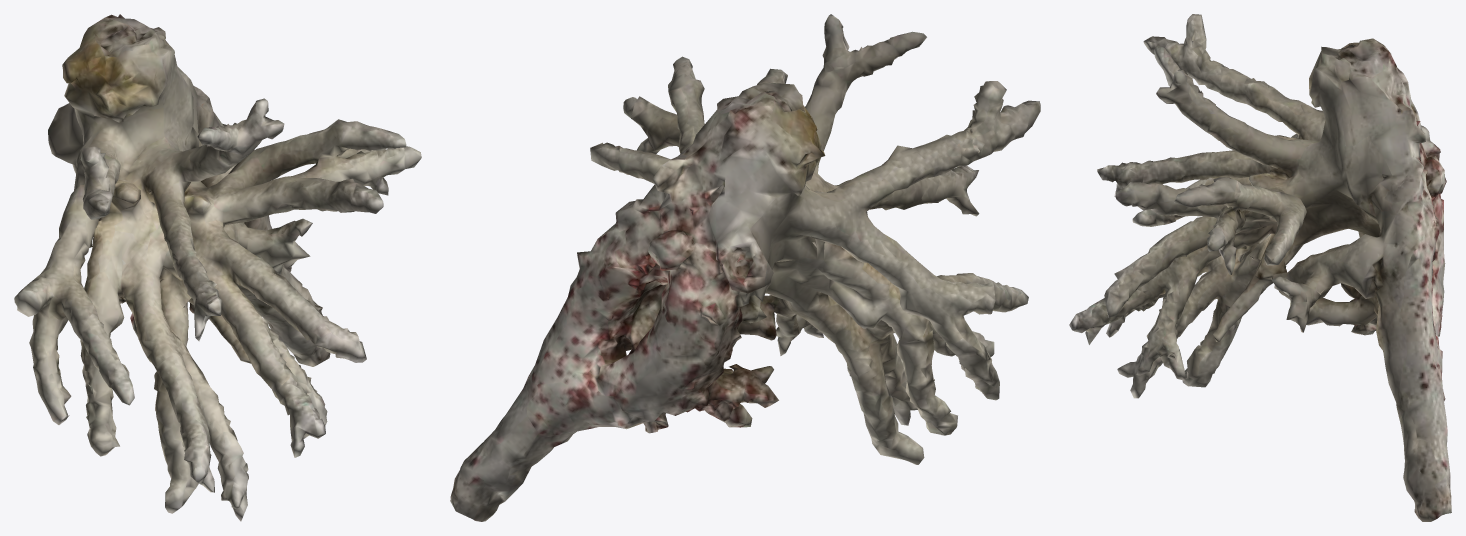
Rendered from staghorn.glb.
3 views of the same model, side by side, from view 1: azimuth 30°, elevation 25°; view 2: azimuth 150°, elevation 25°; view 3: azimuth 270°, elevation 25° (orthographic). The views are drawn at different scales.
Bounding box in the file's own units: 0.2172 × 0.2139 × 0.1964.
1 material, 1 textured.
